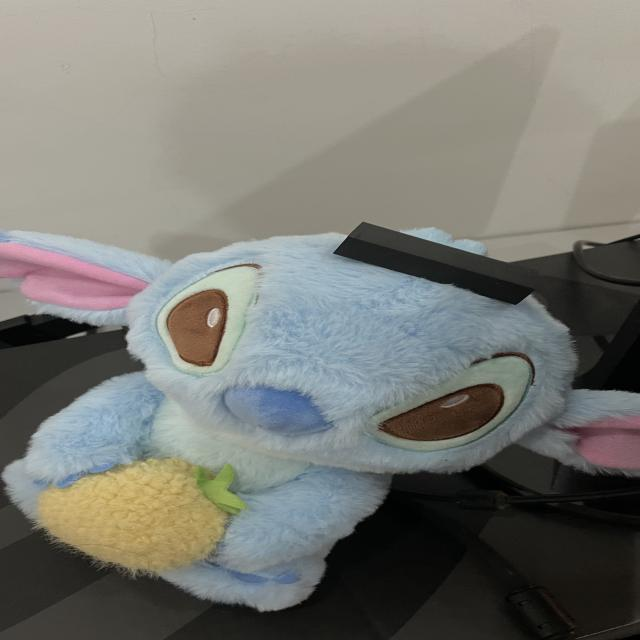eraser: (334, 222, 536, 304)
